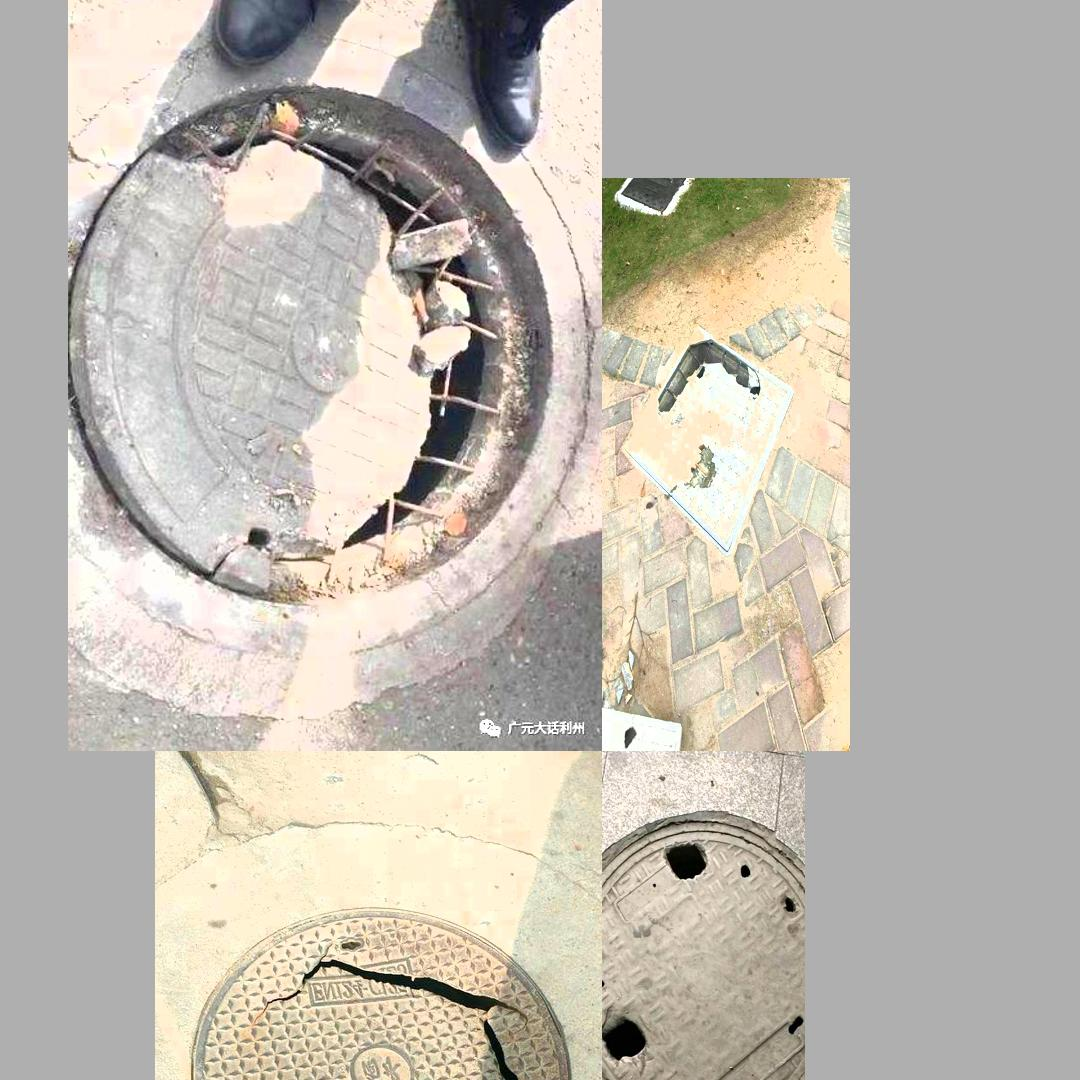broke: (80, 42, 581, 688), (160, 855, 589, 1080), (602, 809, 804, 1080), (619, 323, 792, 558)
